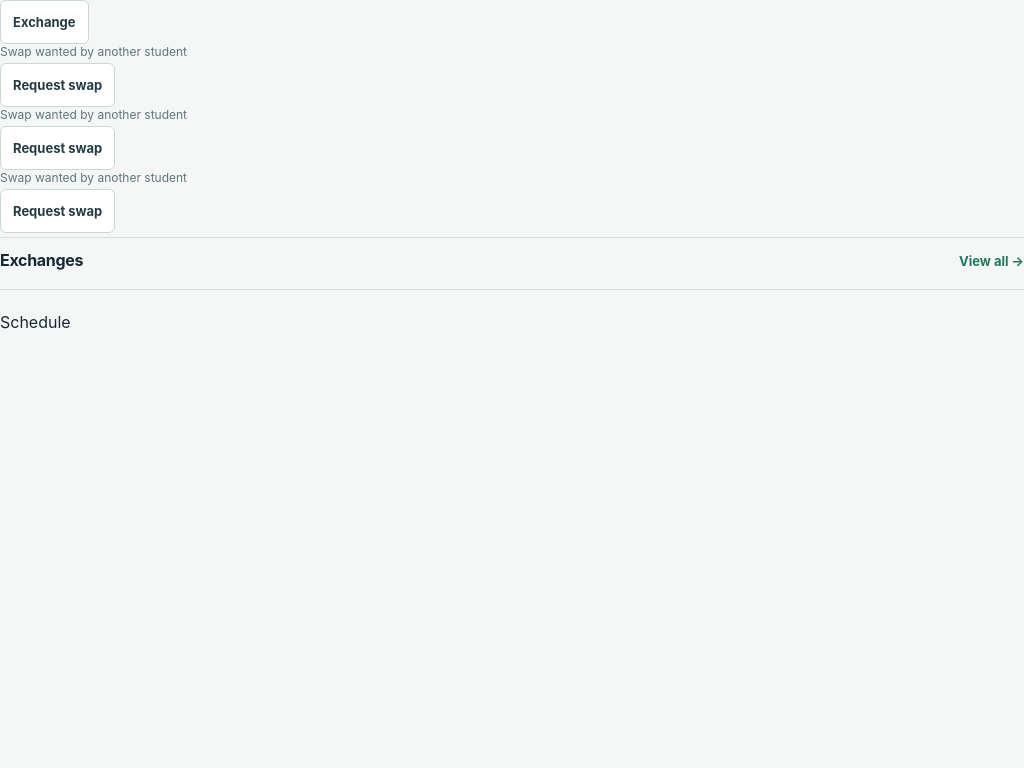
Test: Exchange v2 assignment actions › requests an ordinary target and refreshes the row to Request sent
Check: the 1st element showing "Swap wanted by another student Request swap" is shown, box [0,44,187,107]
Click the 1st button "Request swap": x=58, y=85 [0,63,115,107]
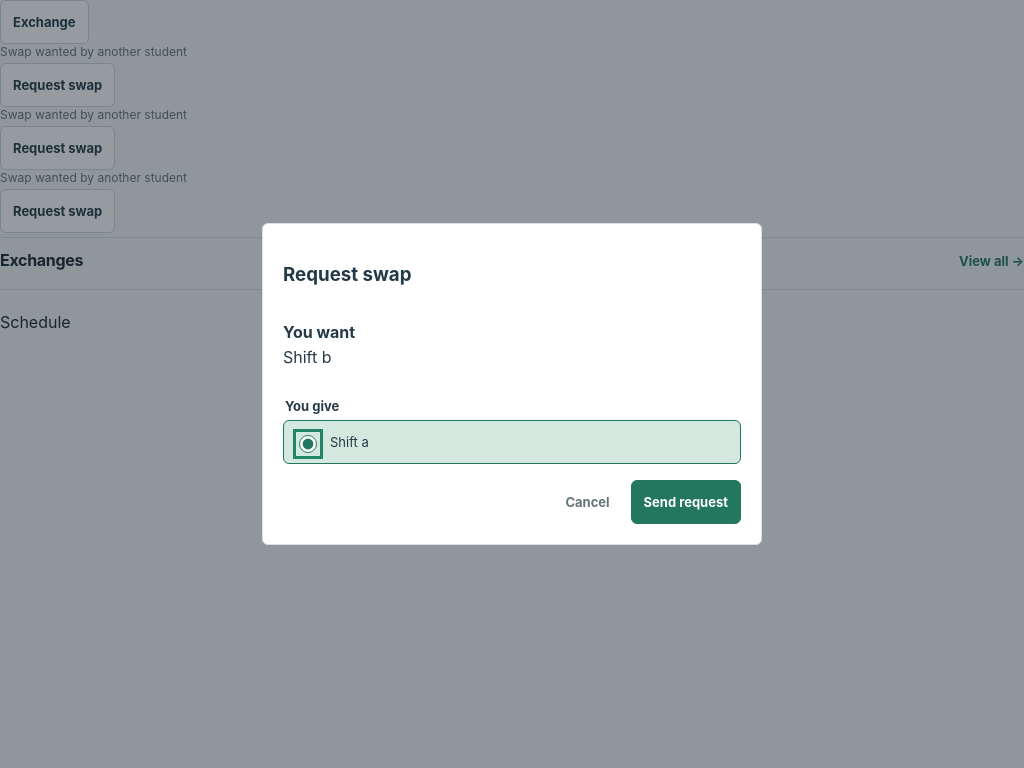
Check: the dialog shows "You want", box [283,322,355,342]
Check: the number of radio buttons is 1, box [299,434,317,452]
Check: the button "Send request" is shown
Click the button "Send request": x=686, y=502 [631,480,741,524]
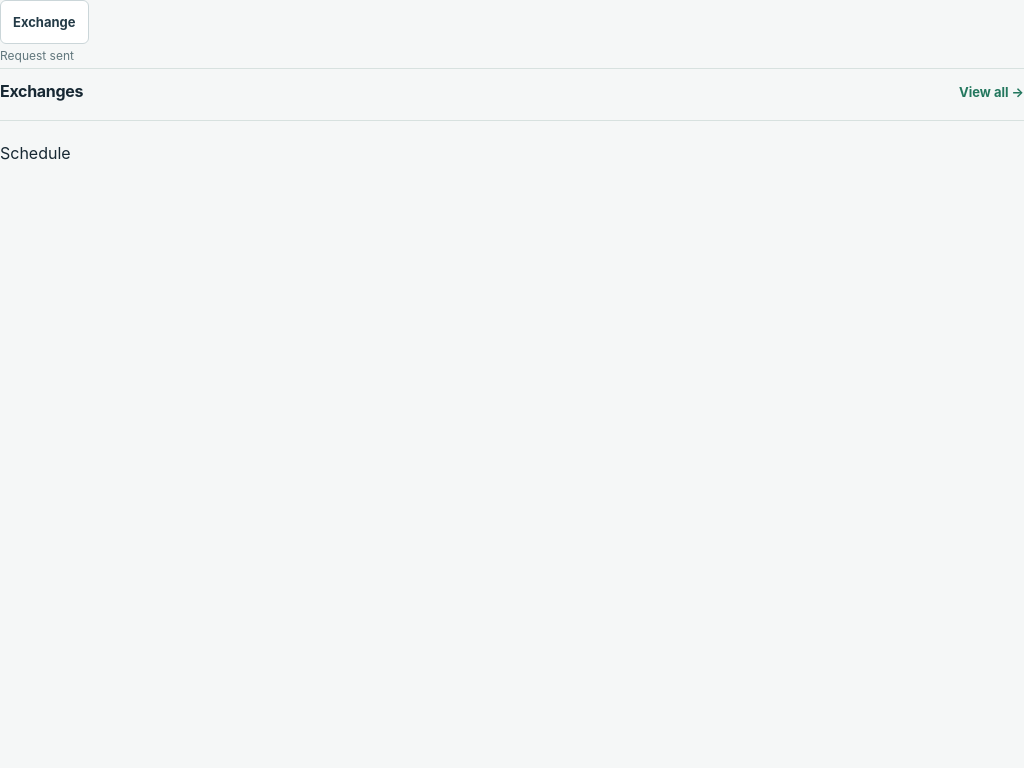
Check: the element showing "Request sent" is shown, box [0,48,74,63]
Check: the button "Request swap" no longer shows "Request swap"
